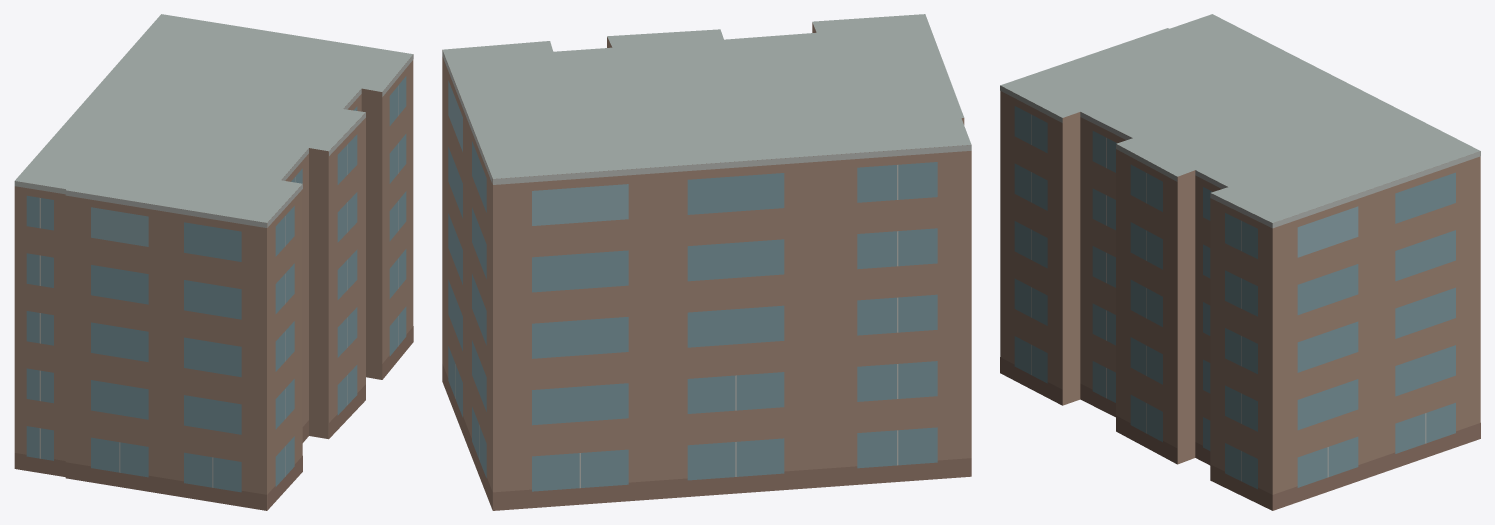
The model's file is survey-upis-32839903.glb.
The picture shows the model from 3 angles, left to right: view 1: azimuth 30°, elevation 25°; view 2: azimuth 150°, elevation 25°; view 3: azimuth 270°, elevation 25°; orthographic projection. The views are drawn at different scales.
Parts seen in each view (by area): view 1: survey-upis-32839903.tmp; view 2: survey-upis-32839903.tmp; view 3: survey-upis-32839903.tmp.
Boxes of the visible parts, left/top/right/bottom form: survey-upis-32839903.tmp: left=14, top=14, right=413, bottom=510; survey-upis-32839903.tmp: left=442, top=14, right=971, bottom=510; survey-upis-32839903.tmp: left=1000, top=14, right=1480, bottom=510.
Bounding box in the file's own units: 20.93 × 13.42 × 20.32.
